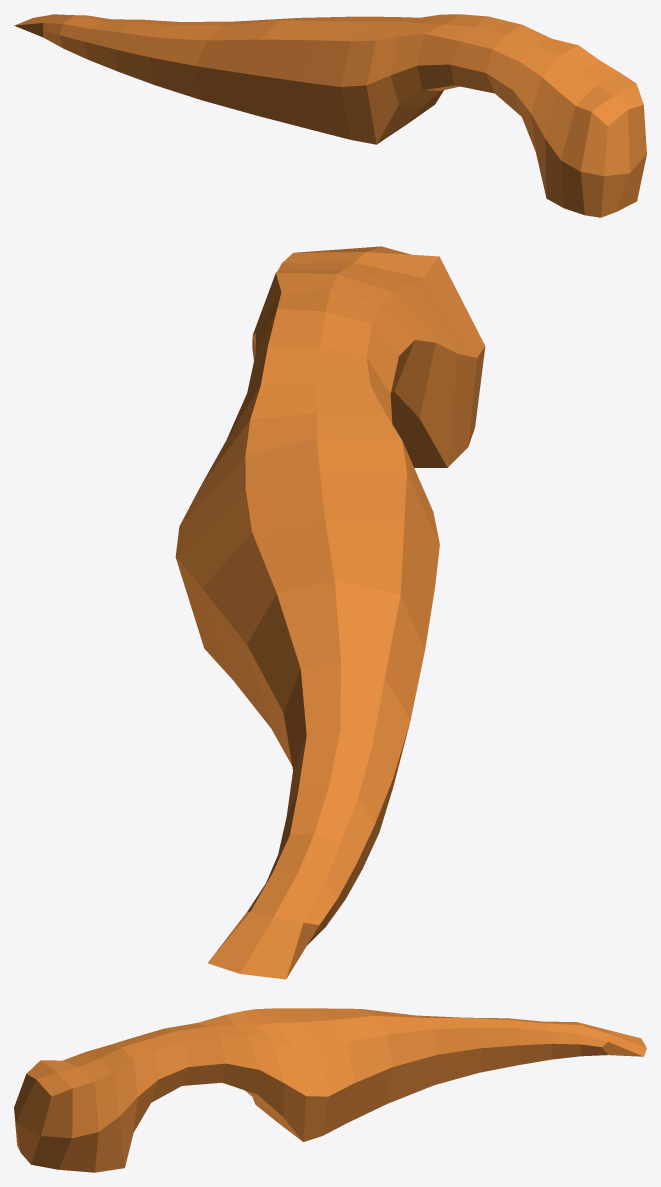
The model's file is rock_arch_3.glb.
3 views of the same model, one above another, from view 1: azimuth 30°, elevation 25°; view 2: azimuth 150°, elevation 25°; view 3: azimuth 270°, elevation 25° (orthographic). The views are drawn at different scales.
Parts seen in each view (by area): view 1: arch1; view 2: arch1; view 3: arch1.
Boxes of the visible parts, x1,y1,x2,y2 form: arch1: (14,14,646,217); arch1: (175,246,485,979); arch1: (14,1008,646,1172).
Size of the model in its own units: 97.35 by 36.1 by 186.
